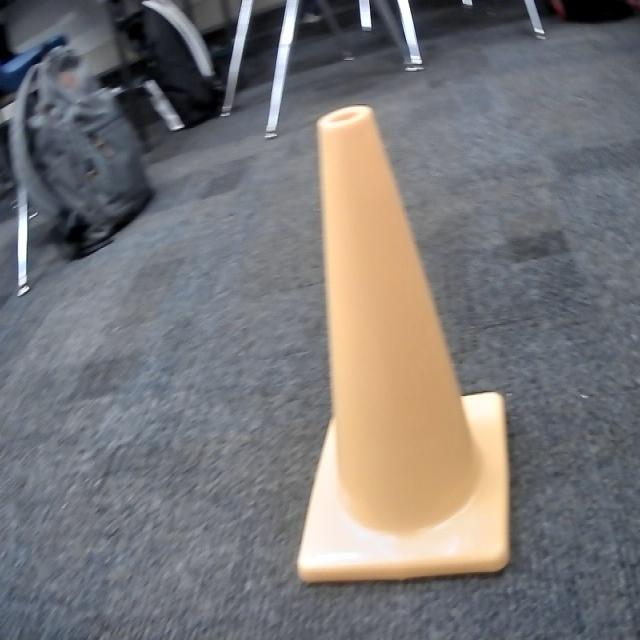cone: (297, 102, 511, 582)
